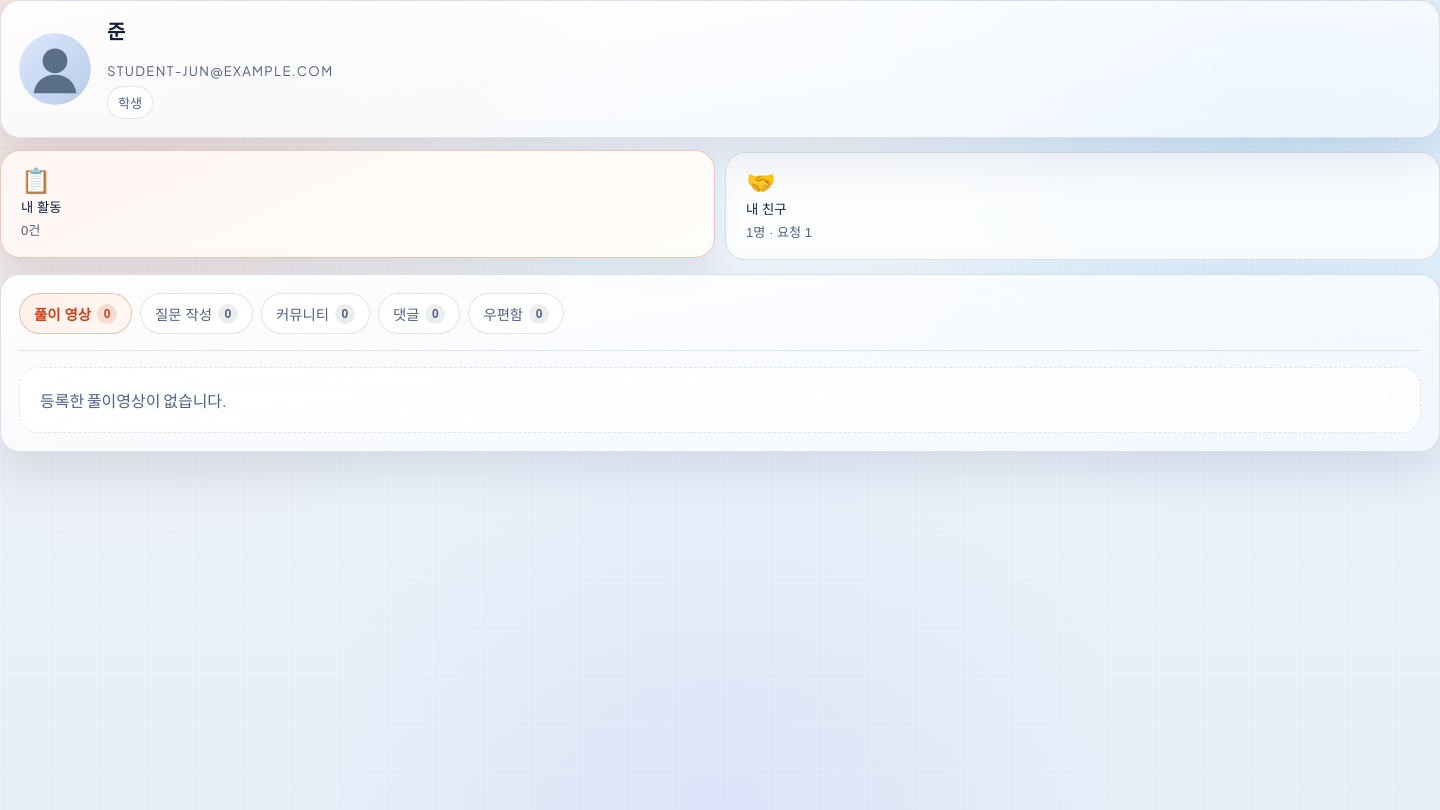
Test case: ProfilePanel (unit) › 친구 프로필 모달에서 1대1채팅하기 버튼을 노출한다
Click the tab "🤝 내 친구 1명 · 요청 1" at (766, 210), box left=725, top=152, right=1439, bottom=260
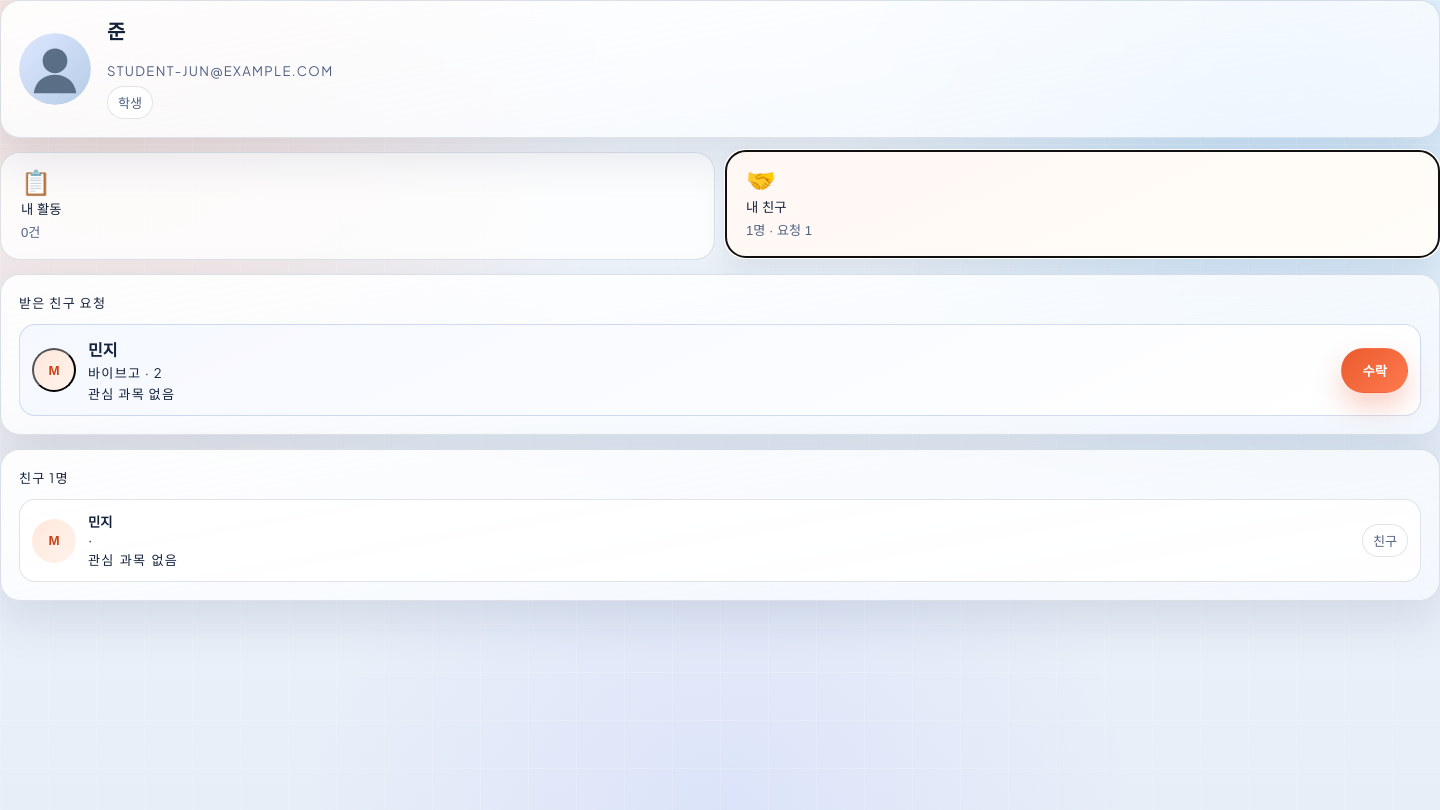
Click the button titled "민지 프로필 보기" at (54, 370), box left=32, top=348, right=76, bottom=392
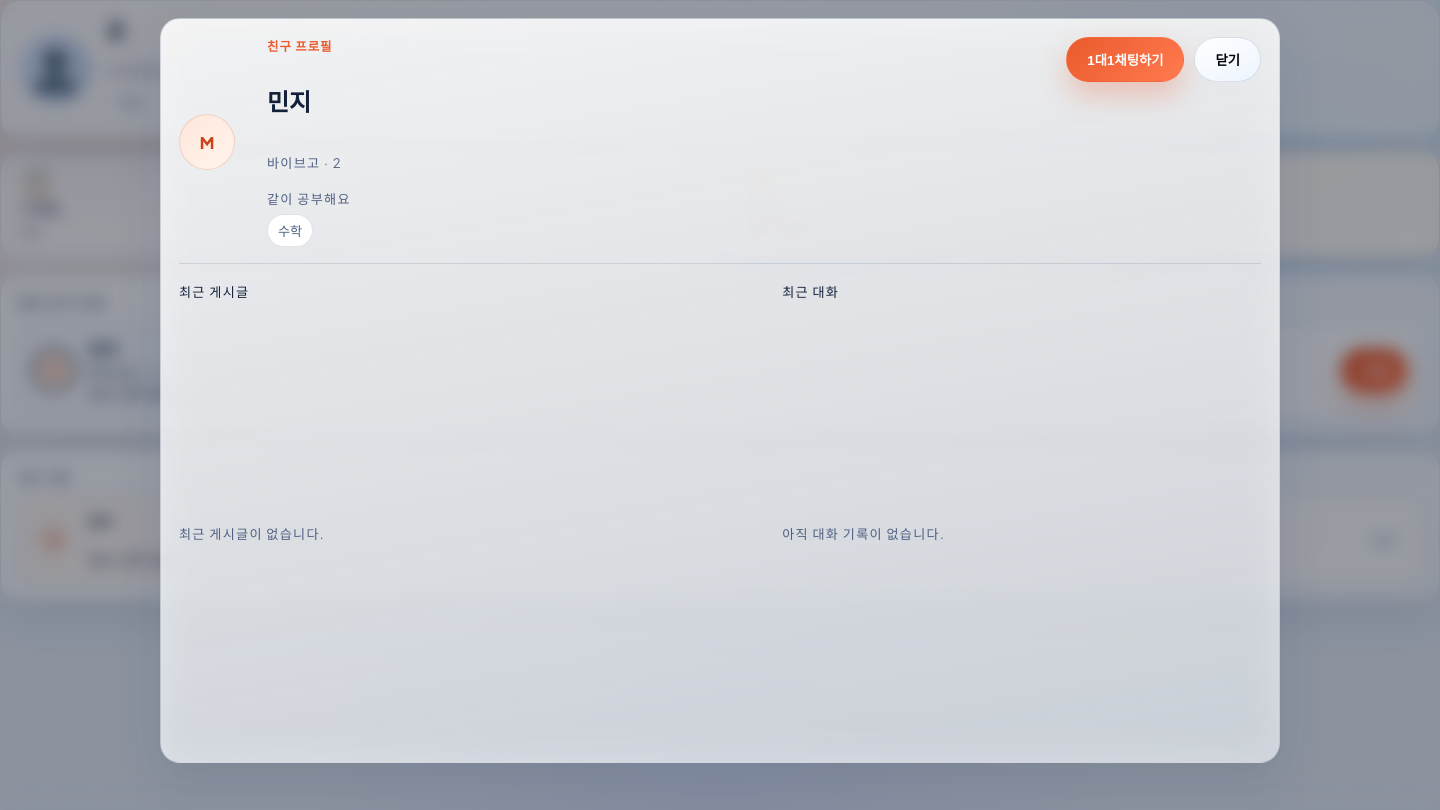
Expected: the text "친구 프로필" is shown, left=267, top=38, right=333, bottom=54
Expected: the button "1대1채팅하기" is shown, left=1066, top=37, right=1184, bottom=82
